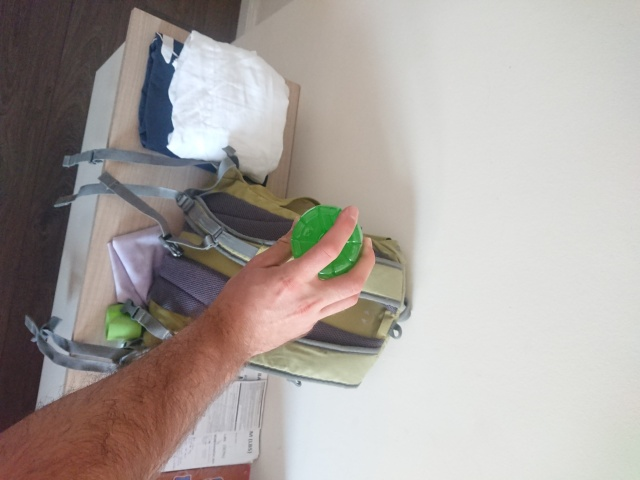Vindi Iso Sport Lemon-Grapefruit 500mL: (287, 202, 367, 281)
